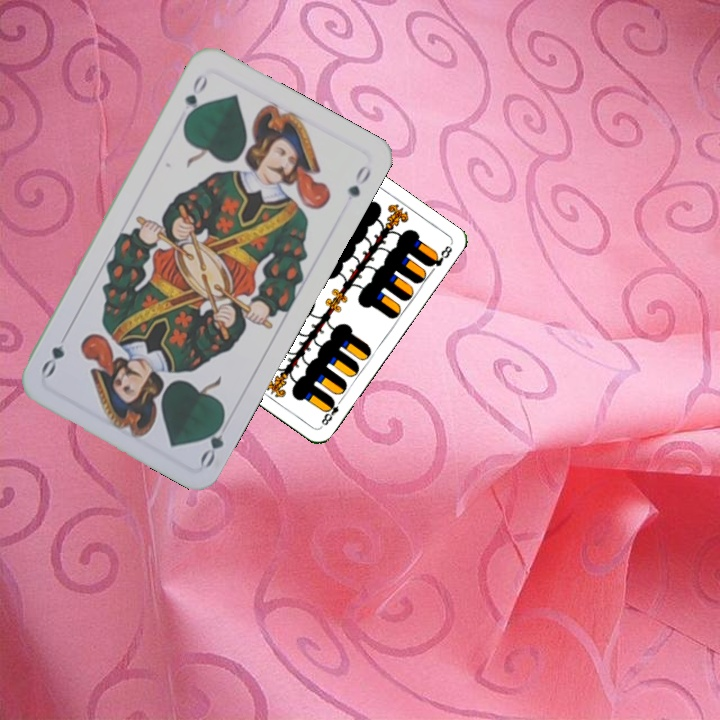E8: (317, 394, 345, 428)
GO: (196, 412, 228, 470), (180, 69, 211, 125)
